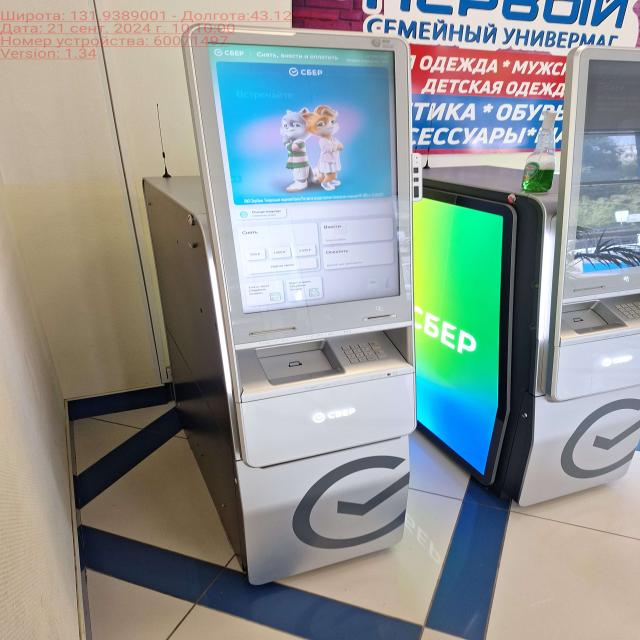bank: (130, 26, 422, 568), (431, 31, 640, 496)
